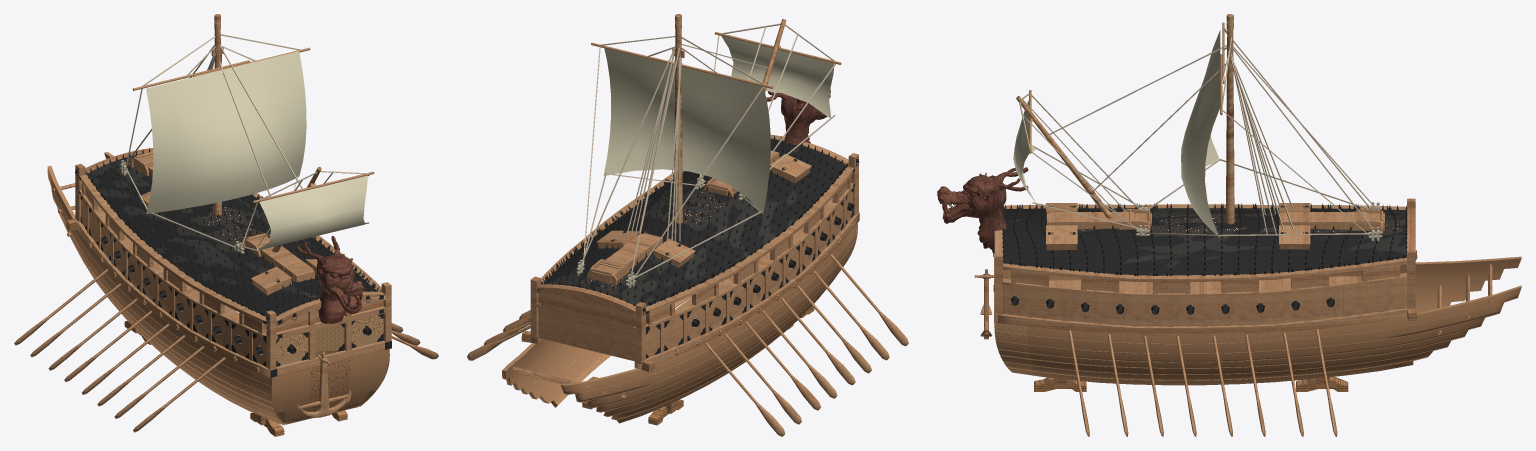
Rendered from Turtle.fbx.
The picture shows the model from 3 angles, left to right: view 1: azimuth 30°, elevation 25°; view 2: azimuth 150°, elevation 25°; view 3: azimuth 270°, elevation 25°; orthographic projection. The views are drawn at different scales.
Visible parts, largest first — view 1: GEWSsa01, Cone01, Arc10, top_board, GEWSsa02, Loft02, 空白, Arc01, 거북선, 多边形, Arc08, Arc05 (+15 smaller); view 2: GEWSsa01, Cone01, Arc10, 多边形, top_board, 空白, Line02, Arc01, GEWSsa02, Arc17, Arc08, Arc05 (+11 smaller); view 3: Arc17, Cone01, Arc12, 多边形, top_board, Arc16, GEWSsa01, Arc10, 거북선, 空白, Arc14, Arc13 (+9 smaller).
Part boxes in pixels (x1=…): GEWSsa01: x1=146, y1=51, x2=306, y2=213; Cone01: x1=85, y1=148, x2=381, y2=316; Arc10: x1=47, y1=166, x2=284, y2=425; top_board: x1=87, y1=154, x2=372, y2=301; GEWSsa02: x1=258, y1=175, x2=367, y2=250; Loft02: x1=271, y1=349, x2=388, y2=424; 空白: x1=14, y1=269, x2=438, y2=432; Arc01: x1=81, y1=199, x2=266, y2=364; 거북선: x1=295, y1=236, x2=364, y2=323; 多边形: x1=125, y1=34, x2=369, y2=250; Arc08: x1=75, y1=219, x2=269, y2=377; Arc05: x1=80, y1=174, x2=266, y2=323; GEWSsa01: x1=603, y1=48, x2=770, y2=214; Cone01: x1=541, y1=135, x2=848, y2=305; Arc10: x1=561, y1=223, x2=857, y2=423; 多边形: x1=580, y1=23, x2=836, y2=277; top_board: x1=544, y1=147, x2=841, y2=306; 空白: x1=467, y1=254, x2=908, y2=436; Line02: x1=538, y1=293, x2=635, y2=361; Arc01: x1=646, y1=191, x2=853, y2=356; GEWSsa02: x1=721, y1=36, x2=834, y2=117; Arc17: x1=502, y1=273, x2=720, y2=407; Arc08: x1=634, y1=212, x2=859, y2=369; Arc05: x1=646, y1=166, x2=854, y2=314; Arc17: x1=994, y1=285, x2=1521, y2=385; Cone01: x1=1002, y1=203, x2=1407, y2=275; Arc12: x1=1003, y1=276, x2=1406, y2=326; 多边形: x1=1019, y1=26, x2=1377, y2=236; top_board: x1=1004, y1=208, x2=1406, y2=275; Arc16: x1=997, y1=308, x2=1415, y2=335; GEWSsa01: x1=1181, y1=30, x2=1220, y2=237; Arc10: x1=1010, y1=256, x2=1521, y2=312; 거북선: x1=937, y1=167, x2=1028, y2=250; 空白: x1=1068, y1=328, x2=1337, y2=436; Arc14: x1=1003, y1=257, x2=1406, y2=282; Arc13: x1=1003, y1=272, x2=1406, y2=296.
Bounding box in the file's own units: 4201 × 4510 × 6668.
Materials: 12 (8 with a texture image).
